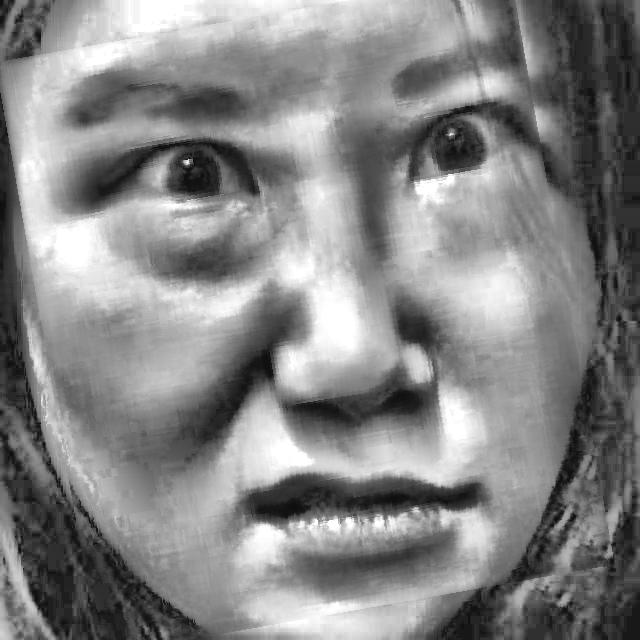angry: (19, 0, 590, 634)
